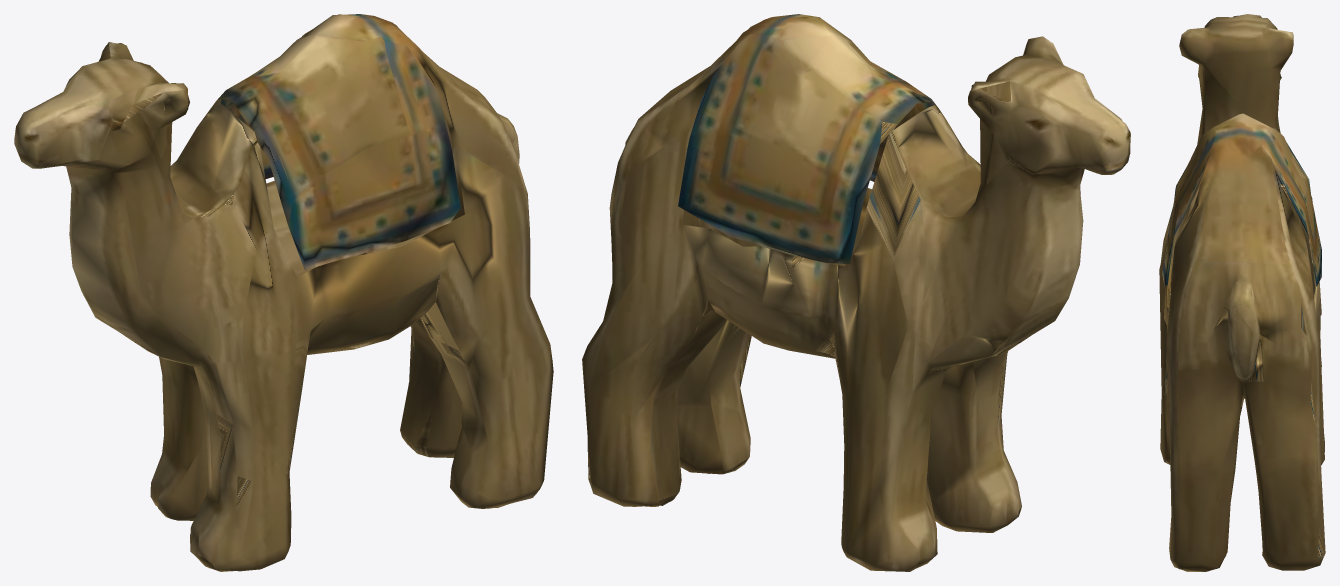
File: camel.glb
The picture shows the model from 3 angles, left to right: view 1: azimuth 30°, elevation 25°; view 2: azimuth 150°, elevation 25°; view 3: azimuth 270°, elevation 25°; orthographic projection. The views are drawn at different scales.
Visible parts, largest first — view 1: geometry_0; view 2: geometry_0; view 3: geometry_0.
Part boxes in pixels (x1,y1,x2,y2): geometry_0: [14, 14, 553, 571]; geometry_0: [582, 14, 1130, 571]; geometry_0: [1159, 14, 1325, 571].
Bounding box in the file's own units: 0.9225 × 0.8848 × 0.3272.
Materials: 1 (1 with a texture image).
